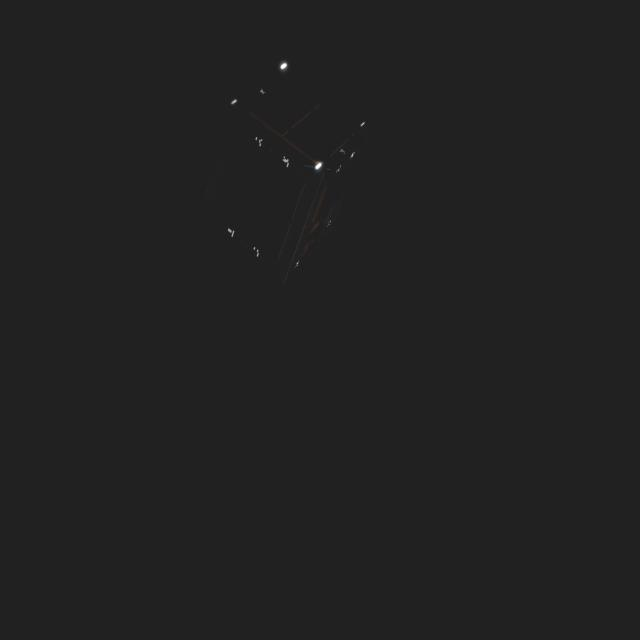satellite: (213, 56, 380, 288)
